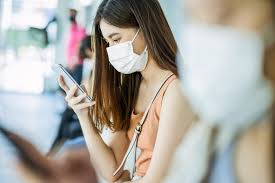with-mask: (90, 1, 176, 74)
